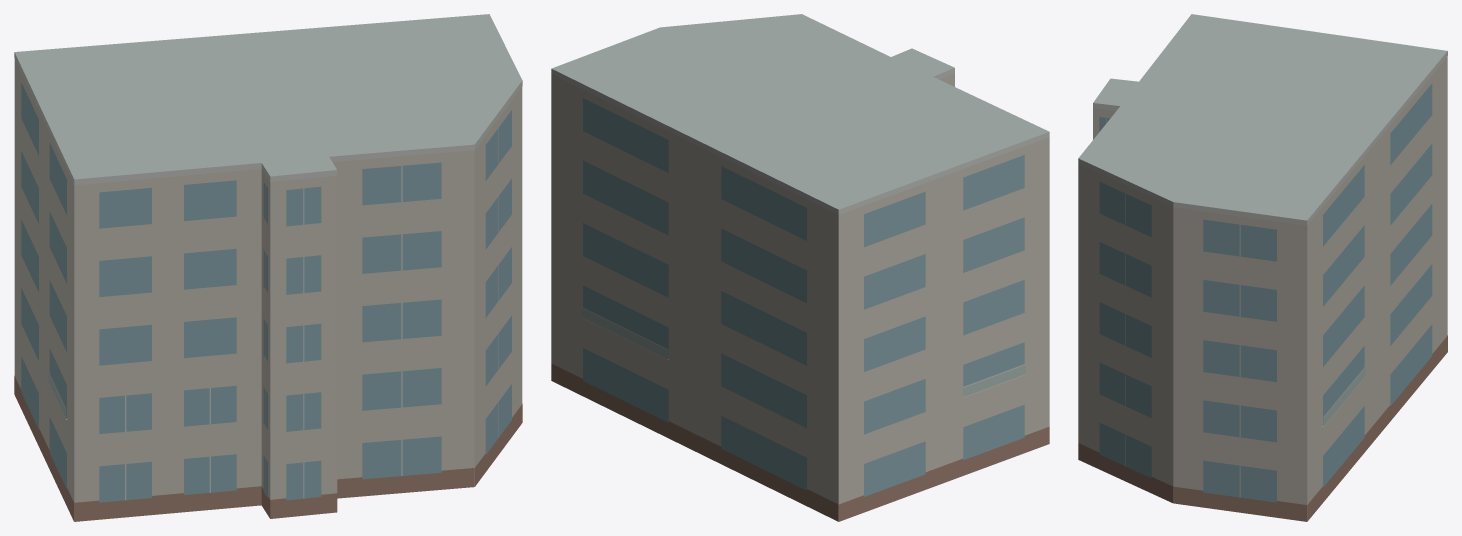
File: survey-upis-32685870.glb
3 renders of one model, left to right at view 1: azimuth 30°, elevation 25°; view 2: azimuth 150°, elevation 25°; view 3: azimuth 270°, elevation 25°, orthographic. The views are drawn at different scales.
Parts seen in each view (by area): view 1: survey-upis-32685870.tmp; view 2: survey-upis-32685870.tmp; view 3: survey-upis-32685870.tmp.
Boxes of the visible parts, x1,y1,x2,y2 form: survey-upis-32685870.tmp: (14, 14, 522, 521); survey-upis-32685870.tmp: (551, 14, 1049, 521); survey-upis-32685870.tmp: (1078, 14, 1447, 521).
Bounding box in the file's own units: 21.18 × 14.4 × 16.01.
